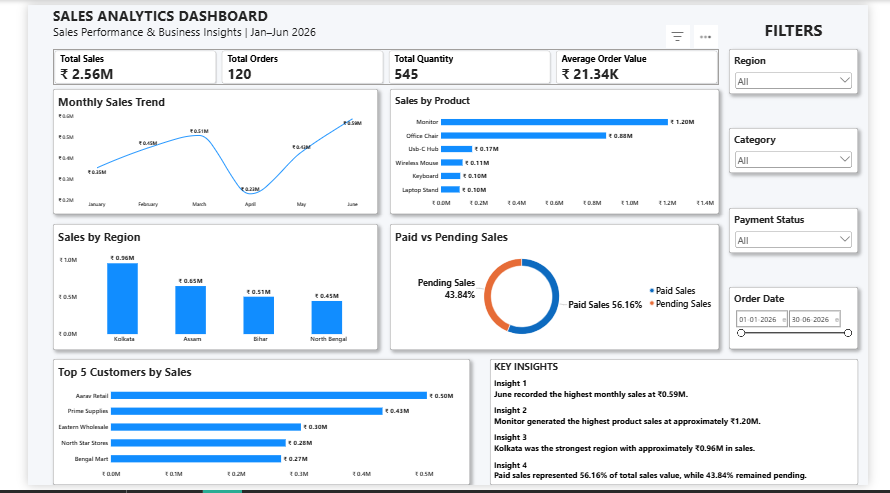

The dashboard page shown, as its layout file describes it:
{"tool":"powerbi","page":{"name":"Page 1","canvas":[2800,1600],"ordinal":0},"visuals":[{"type":"cardVisual","fields":{"Data":["Table Measures.Total Sales","Table Measures.Total Orders","Table Measures.Total Quantity","Table Measures.Average Order Value"]},"box":[83.3,146.7,2220,120],"z":0},{"type":"textbox","box":[83.3,0,1753.3,146.7],"z":1000},{"type":"lineChart","title":"Monthly Sales Trend","fields":{"Category":["Final_Cleaned_Data.Order_Date.Variation.Date Hierarchy.Month"],"Y":["Table Measures.Total Sales"]},"box":[83.3,280,1083.3,416.7],"z":2000},{"type":"clusteredBarChart","title":"Sales by Product","fields":{"Category":["Final_Cleaned_Data.Product"],"Y":["Table Measures.Total Sales"]},"box":[1206.7,280,1096.7,416.7],"z":3000},{"type":"clusteredColumnChart","title":"Sales by Region","fields":{"Category":["Final_Cleaned_Data.Region"],"Y":["Table Measures.Total Sales"]},"box":[83.3,730,1083.3,420],"z":4000},{"type":"clusteredBarChart","title":"Top 5 Customers by Sales","fields":{"Category":["Final_Cleaned_Data.Customer"],"Y":["Table Measures.Total Sales"]},"box":[83.3,1180,1390,420],"z":5000},{"type":"donutChart","title":"Paid vs Pending Sales","fields":{"Y":["Table Measures.Paid Sales","Table Measures.Pending Sales"]},"box":[1206.7,730,1096.7,420],"z":6000},{"type":"slicer","title":"Category","fields":{"Values":["Final_Cleaned_Data.Category"]},"box":[2336.7,411.1,430,150],"z":7000},{"type":"slicer","title":"Region","fields":{"Values":["Final_Cleaned_Data.Region"]},"box":[2336.7,146.7,430,150],"z":8000},{"type":"slicer","title":"Payment Status","fields":{"Values":["Final_Cleaned_Data.Payment_Status"]},"box":[2336.7,675.6,430,150],"z":9000},{"type":"slicer","title":"Order Date","fields":{"Values":["Final_Cleaned_Data.Order_Date"]},"box":[2336.7,940,430,206.7],"z":10000},{"type":"textbox","box":[2336.7,46.7,430,100],"z":11000},{"type":"textbox","title":"KEY INSIGHTS","box":[1540,1180,1226.7,420],"z":11001}]}

Visuals, with their boxes on the page's 2800x1600 design canvas (x1, y1, x2, y2). These are canvas units, not pixel positions in the 890x493 screenshot, which may show the page scaled, cropped or inside an application window:
cardVisual - Table Measures.Total Sales x Table Measures.Total Orders: {"left": 83, "top": 147, "right": 2303, "bottom": 267}
textbox: {"left": 83, "top": 0, "right": 1837, "bottom": 147}
"Monthly Sales Trend" lineChart: {"left": 83, "top": 280, "right": 1167, "bottom": 697}
"Sales by Product" clusteredBarChart: {"left": 1207, "top": 280, "right": 2303, "bottom": 697}
"Sales by Region" clusteredColumnChart: {"left": 83, "top": 730, "right": 1167, "bottom": 1150}
"Top 5 Customers by Sales" clusteredBarChart: {"left": 83, "top": 1180, "right": 1473, "bottom": 1600}
"Paid vs Pending Sales" donutChart: {"left": 1207, "top": 730, "right": 2303, "bottom": 1150}
"Category" slicer: {"left": 2337, "top": 411, "right": 2767, "bottom": 561}
"Region" slicer: {"left": 2337, "top": 147, "right": 2767, "bottom": 297}
"Payment Status" slicer: {"left": 2337, "top": 676, "right": 2767, "bottom": 826}
"Order Date" slicer: {"left": 2337, "top": 940, "right": 2767, "bottom": 1147}
textbox: {"left": 2337, "top": 47, "right": 2767, "bottom": 147}
"KEY INSIGHTS" textbox: {"left": 1540, "top": 1180, "right": 2767, "bottom": 1600}
